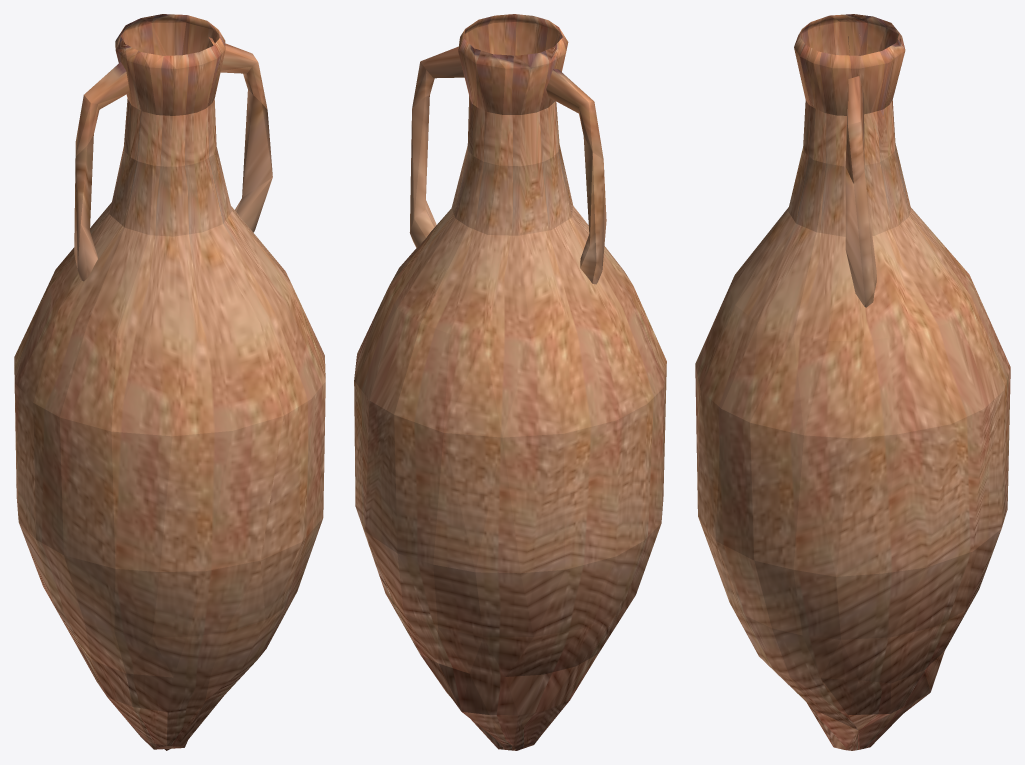
File: amphora.glb
3 views of the same model, side by side, from view 1: azimuth 30°, elevation 25°; view 2: azimuth 150°, elevation 25°; view 3: azimuth 270°, elevation 25° (orthographic).
Visible parts, largest first — view 1: Sphere; view 2: Sphere; view 3: Sphere.
Boxes of the visible parts, bbox=[...] form: Sphere: bbox=[14, 14, 325, 750]; Sphere: bbox=[354, 14, 666, 750]; Sphere: bbox=[695, 14, 1010, 750].
Bounding box in the file's own units: 0.6845 × 1.71 × 0.6838.
Materials: 1 (1 with a texture image).
